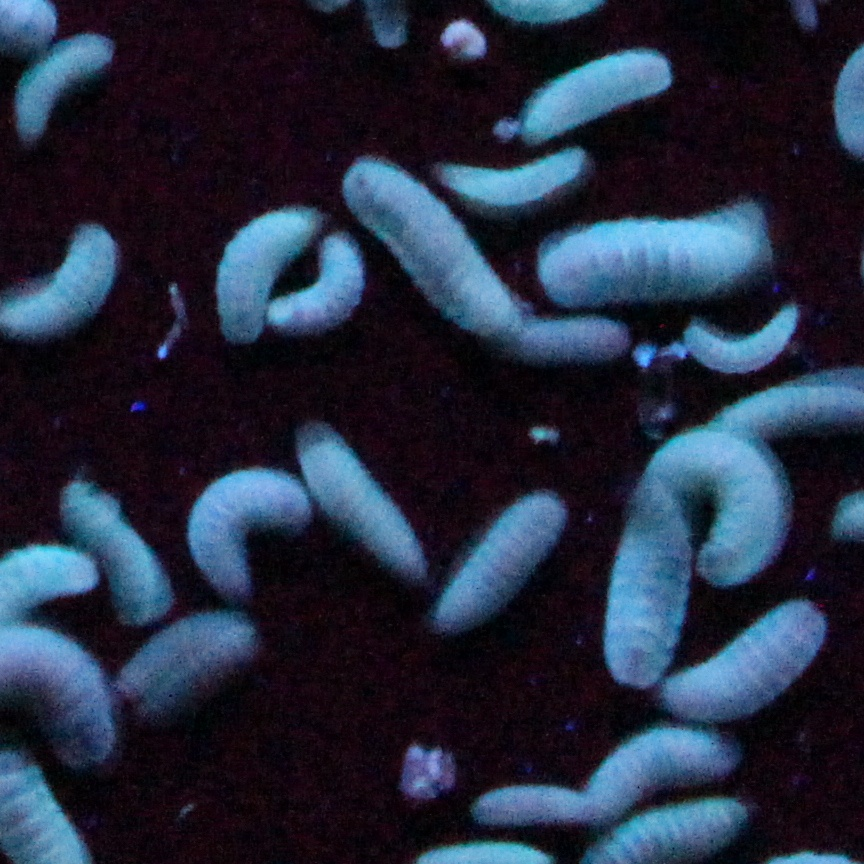larve: (330, 173, 533, 333), (646, 424, 778, 592), (295, 441, 427, 584), (678, 596, 822, 716), (542, 224, 766, 300), (590, 492, 678, 684), (438, 500, 562, 628), (213, 204, 315, 347), (67, 487, 173, 621), (115, 616, 244, 724), (527, 44, 684, 130), (195, 476, 307, 581), (590, 728, 754, 796), (15, 36, 115, 141), (269, 238, 369, 336), (435, 156, 592, 201), (674, 310, 801, 365), (470, 784, 614, 832), (507, 324, 632, 370)
